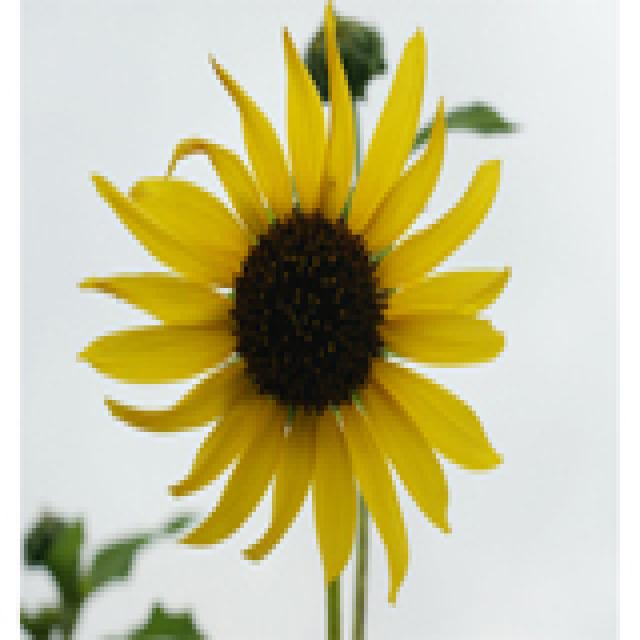sunflower: (60, 0, 520, 619)
